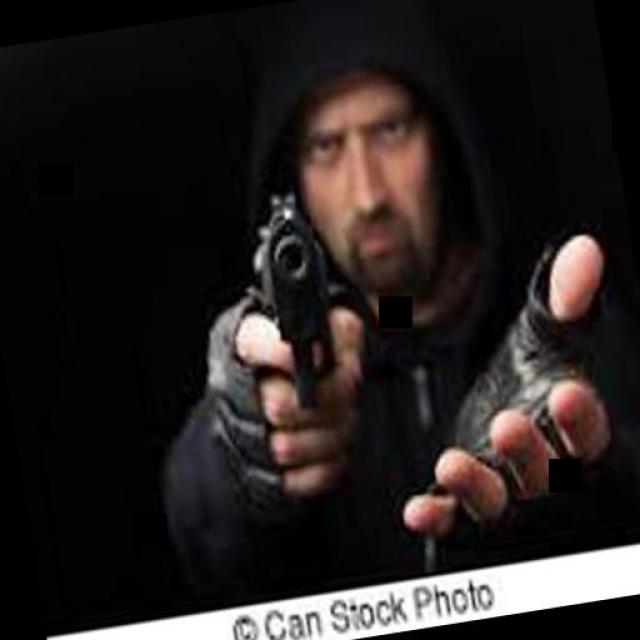gun: (236, 175, 354, 411)
